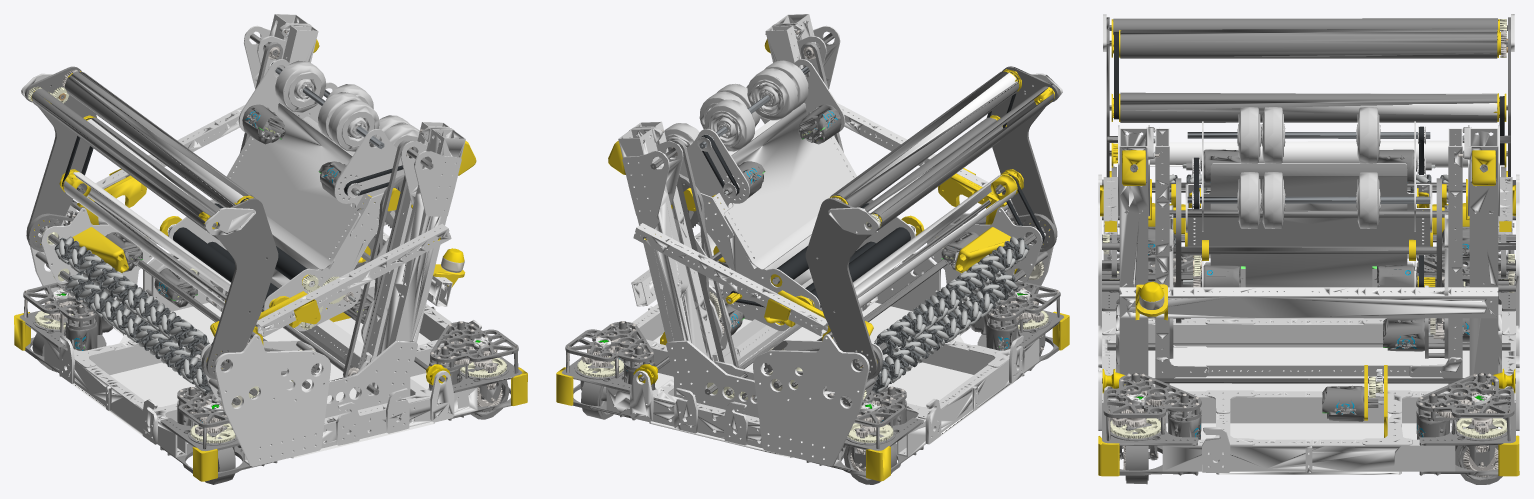
The model's file is domotron-604.glb.
The picture shows the model from 3 angles, left to right: view 1: azimuth 30°, elevation 25°; view 2: azimuth 150°, elevation 25°; view 3: azimuth 270°, elevation 25°; orthographic projection. The views are drawn at different scales.
Parts seen in each view (by area): view 1: frame, intake, shooter, climber, carriage; view 2: frame, intake, shooter, climber, carriage; view 3: frame, intake, shooter, carriage, climber.
Part boxes in pixels (x1,y1,x2,y2): frame: (14, 14, 527, 484); intake: (21, 66, 330, 466); shooter: (159, 59, 419, 331); climber: (77, 105, 451, 345); carriage: (212, 25, 449, 397); frame: (556, 14, 1069, 484); intake: (753, 66, 1062, 466); shooter: (664, 59, 924, 331); climber: (633, 103, 1007, 340); carriage: (634, 25, 871, 364); frame: (1098, 125, 1519, 484); intake: (1098, 14, 1519, 325); shooter: (1171, 107, 1446, 287); carriage: (1153, 128, 1463, 388); climber: (1100, 177, 1515, 234).
Bounding box in the file's own units: 0.7493 × 0.6462 × 0.7493.
